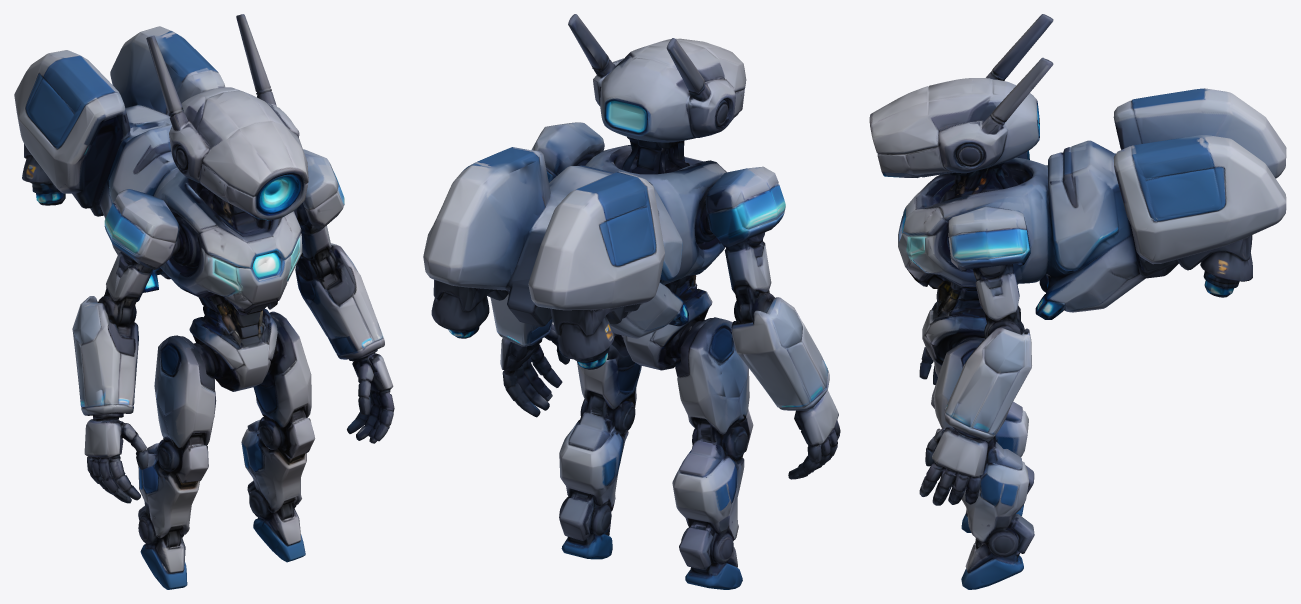
Rendered from player_view.fbx.
The picture shows the model from 3 angles, left to right: view 1: azimuth 30°, elevation 25°; view 2: azimuth 150°, elevation 25°; view 3: azimuth 270°, elevation 25°; orthographic projection. The views are drawn at different scales.
Visible parts, largest first — view 1: node_0; view 2: node_0; view 3: node_0.
Part boxes in pixels (box(x1,y1,x2,y2)): node_0: box(14, 14, 394, 589); node_0: box(423, 14, 840, 589); node_0: box(869, 14, 1286, 589).
Size of the model in its own units: 64.75 by 109 by 78.89.
Materials: 1 (1 with a texture image).
